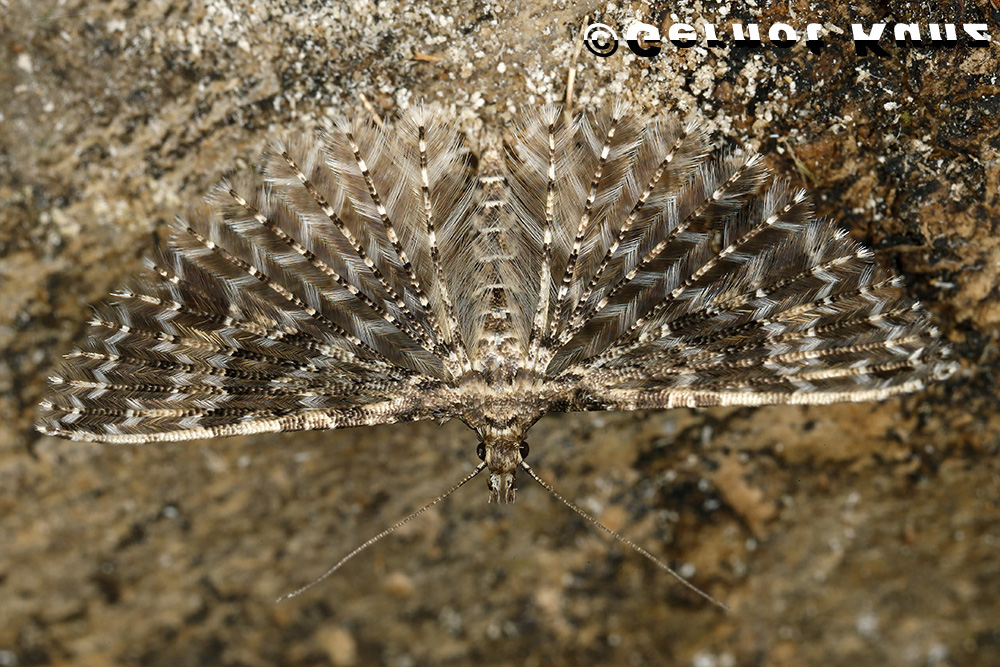Alucitidae: (28, 18, 956, 614)
moth: (30, 20, 958, 616)
